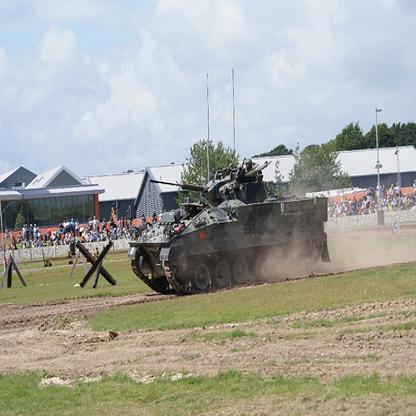Tank: (128, 155, 340, 294)
